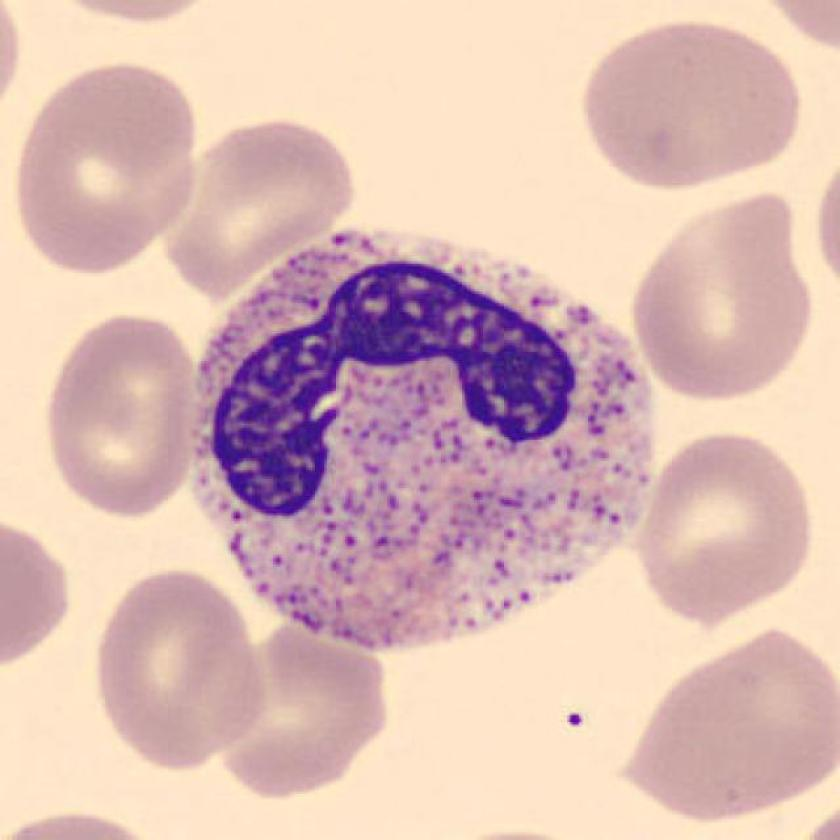neutrophil: (190, 231, 666, 639)
